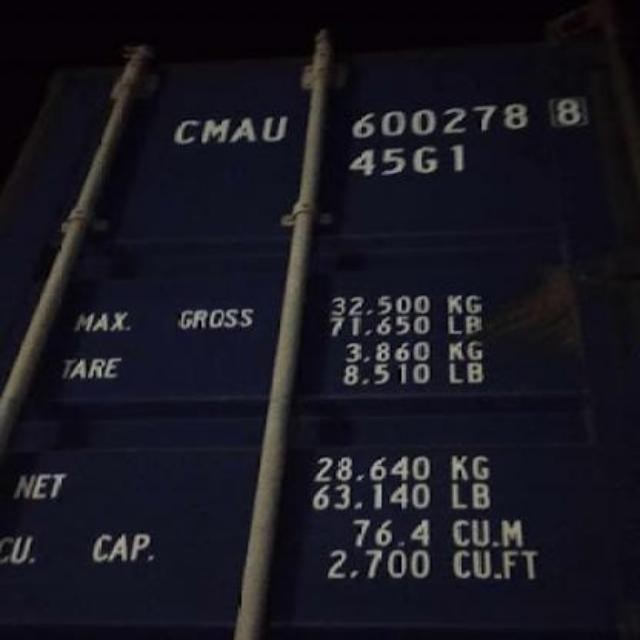0: (378, 106, 408, 138), (410, 106, 440, 138)
2: (442, 105, 472, 138)
6: (348, 107, 378, 139)
7: (470, 102, 498, 132)
8: (552, 94, 586, 130), (502, 99, 532, 137)
A: (228, 114, 260, 148)
C: (172, 113, 200, 151)
M: (202, 115, 232, 147)
U: (258, 112, 292, 146)
